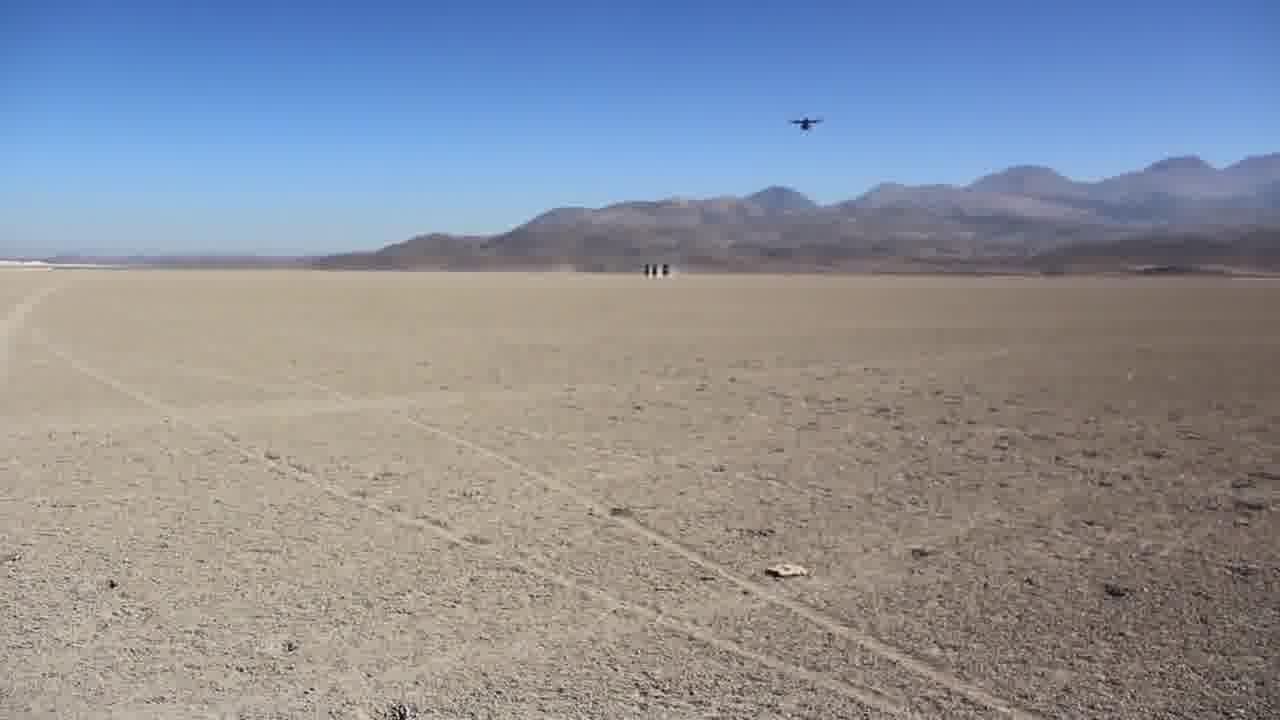drone: (784, 108, 828, 136)
